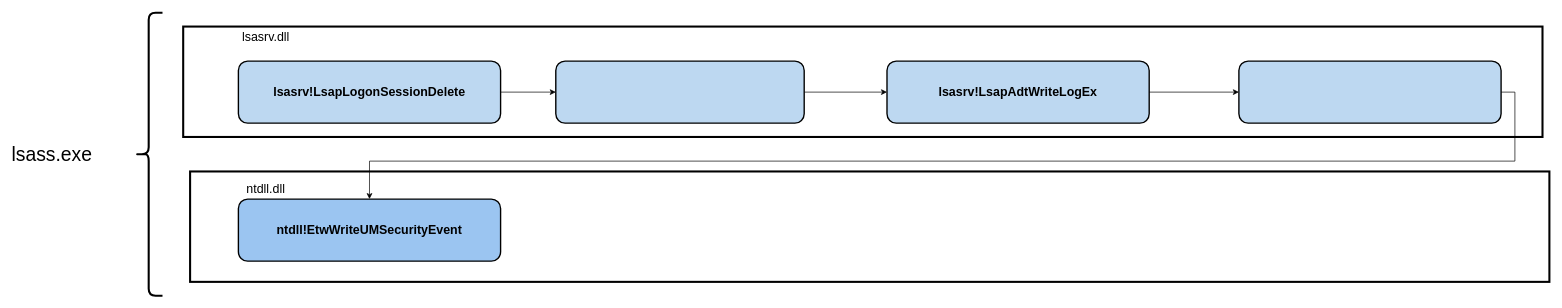
Image size: 1562x308. Some labels were removed from this diagram. The shapes that lost their labels are listed below. From the top down, each one's centre as x and y in pixels, then its label:
At point (680, 92): "lsasrv!LsapAdtAuditLogoff".
At point (1369, 92): "lsasrv!AdtpWriteToEtw".
